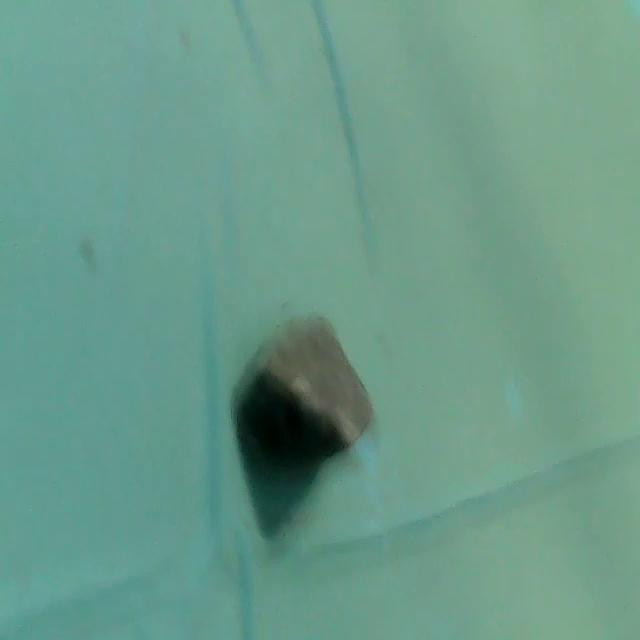rock: (228, 306, 374, 470)
